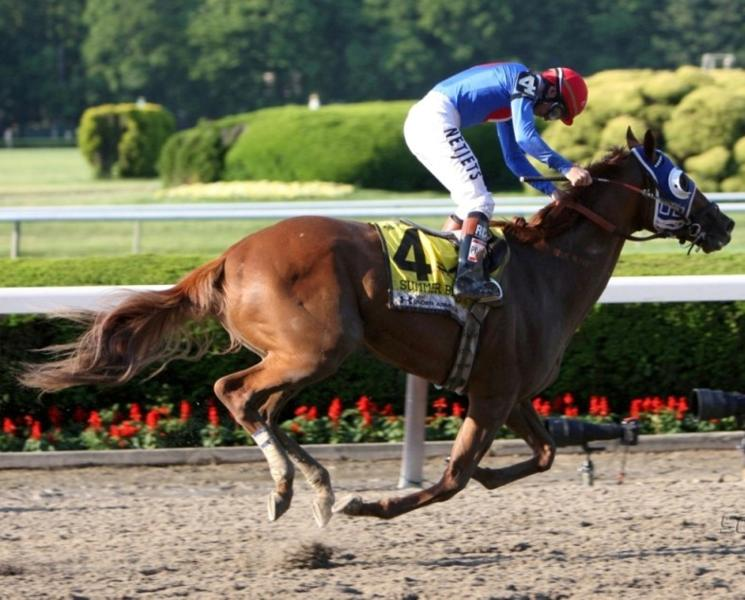person: (403, 58, 596, 301)
